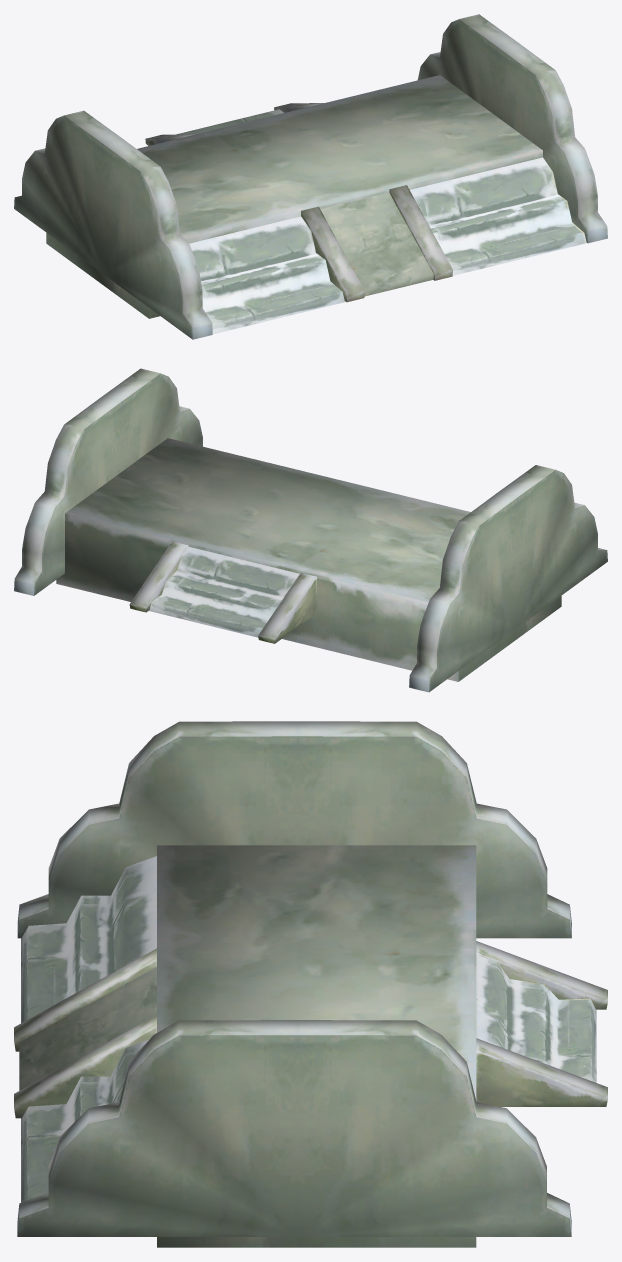
Rendered from SM_House_brick_01.fbx.
The picture shows the model from 3 angles, top to bottom: view 1: azimuth 30°, elevation 25°; view 2: azimuth 150°, elevation 25°; view 3: azimuth 270°, elevation 25°; orthographic projection. The views are drawn at different scales.
Visible parts, largest first — view 1: SM_House_brick_01; view 2: SM_House_brick_01; view 3: SM_House_brick_01.
Boxes of the visible parts, box(x1,y1,x2,y2) form: SM_House_brick_01: box(14, 14, 607, 339); SM_House_brick_01: box(14, 368, 607, 692); SM_House_brick_01: box(14, 721, 607, 1247).
Size of the model in its own units: 2.55 by 0.8371 by 2.04.
